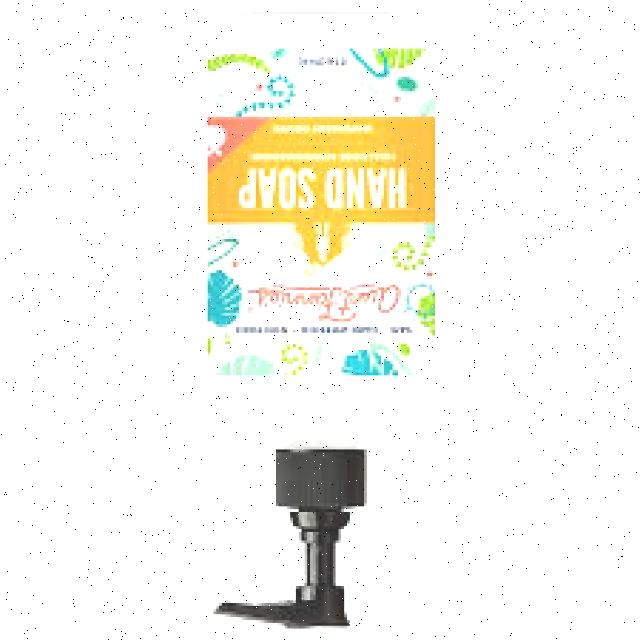liquid soap: (193, 6, 437, 632)
